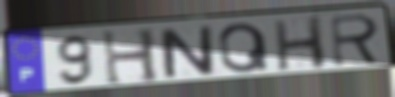9: (53, 33, 96, 86)
H: (99, 27, 163, 88), (270, 14, 329, 73)
N: (156, 24, 219, 81)
Q: (216, 21, 273, 75)
R: (328, 12, 385, 69)
